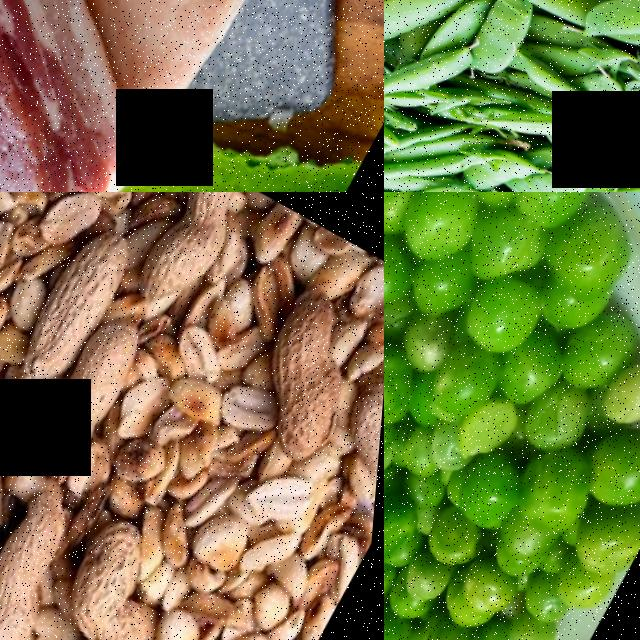peanuts: (233, 274, 384, 456), (12, 208, 143, 394), (52, 500, 176, 640), (0, 478, 100, 640), (47, 300, 155, 442), (131, 192, 253, 310), (58, 590, 175, 640), (333, 355, 384, 466)
peas: (384, 192, 640, 640)
pork belly: (0, 0, 214, 192)
